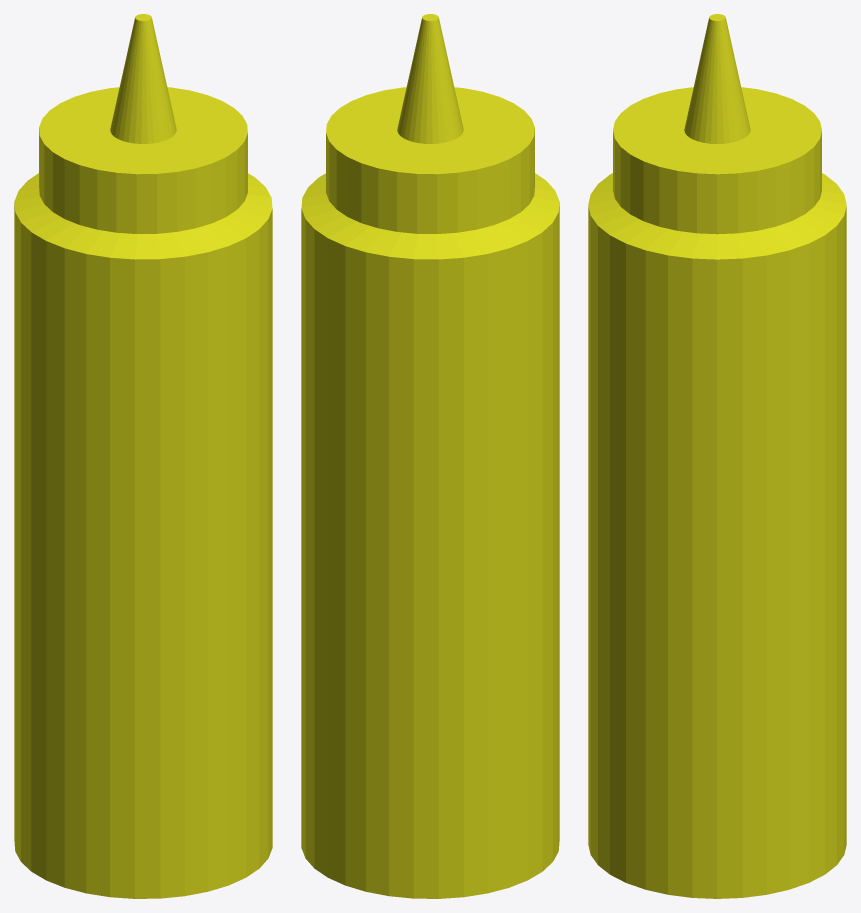
Rendered from musztarda.fbx.
The picture shows the model from 3 angles, left to right: view 1: azimuth 30°, elevation 25°; view 2: azimuth 150°, elevation 25°; view 3: azimuth 270°, elevation 25°; orthographic projection.
Visible parts, largest first — view 1: Cylinder.004; view 2: Cylinder.004; view 3: Cylinder.004.
Part boxes in pixels (box(x1,y1,x2,y2)): Cylinder.004: box(14, 14, 272, 898); Cylinder.004: box(301, 14, 559, 898); Cylinder.004: box(588, 14, 846, 898).
Size of the model in its own units: 11.51 by 40.59 by 11.51.
